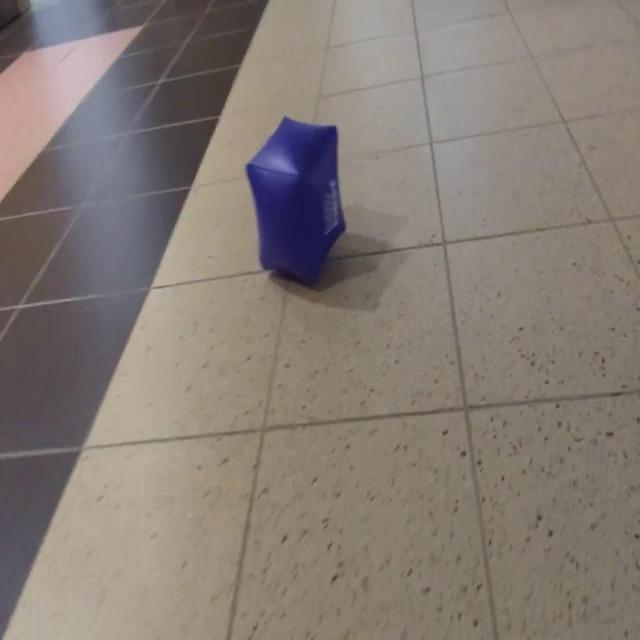frc_cube: (245, 118, 348, 286)
